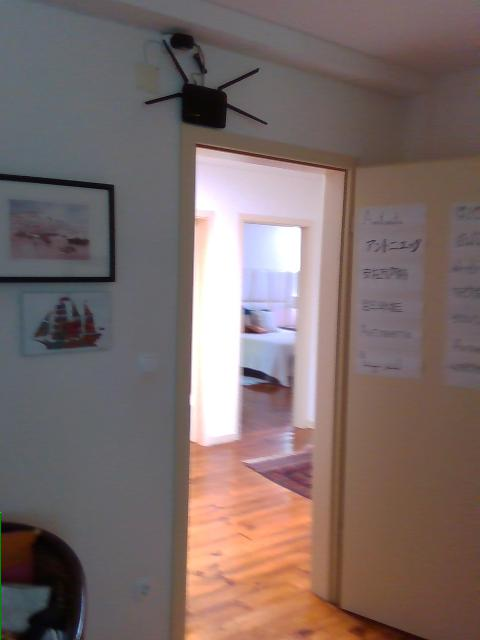open_door: (177, 124, 357, 639)
